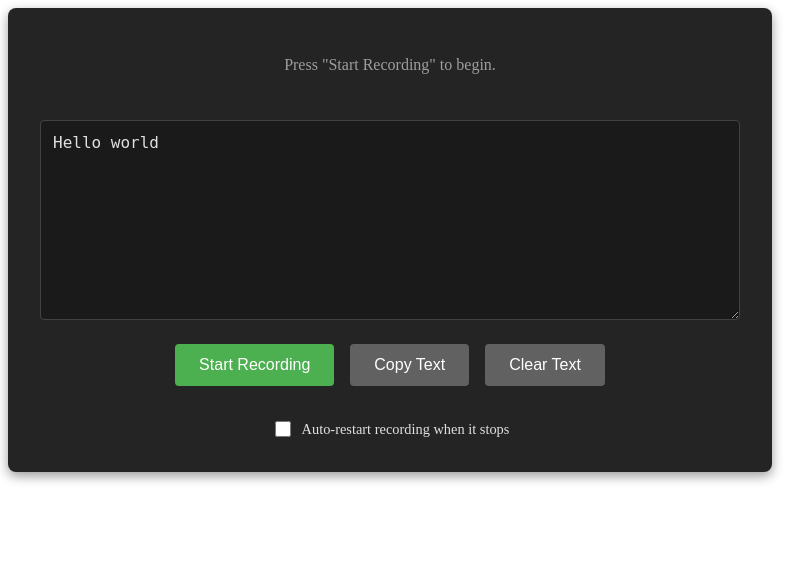
Scenario: TranscriptionPad Component › copies via navigator.clipboard when available and secure, then shows success
Click the button "Copy Text" at coordinates (410, 365), box top-left (350, 344), bottom-right (469, 386)
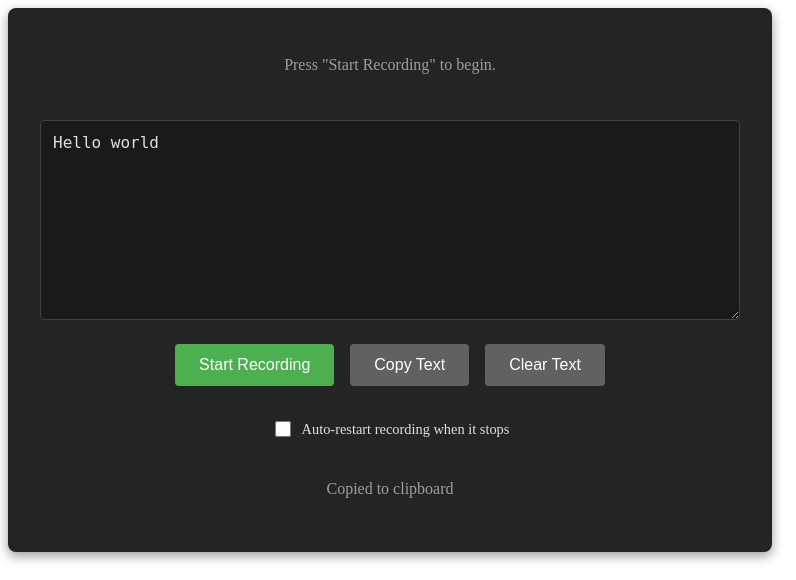
Now the text "Copied to clipboard" is shown, box top-left (326, 480), bottom-right (454, 497)
